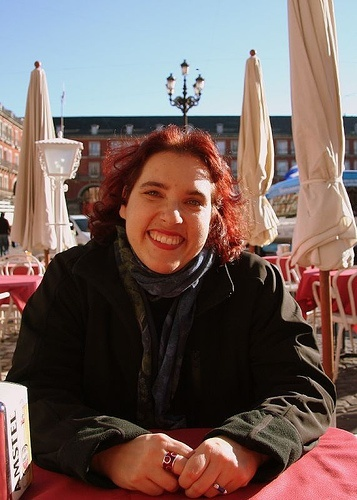head: (116, 125, 226, 276)
person: (5, 120, 345, 490), (0, 211, 10, 252)
